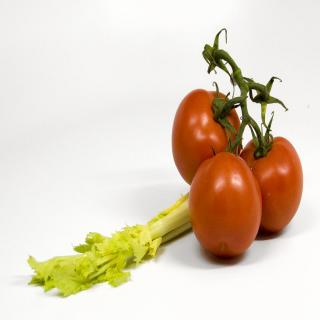Tomato: (171, 83, 245, 187), (191, 152, 262, 259), (244, 132, 303, 240)
